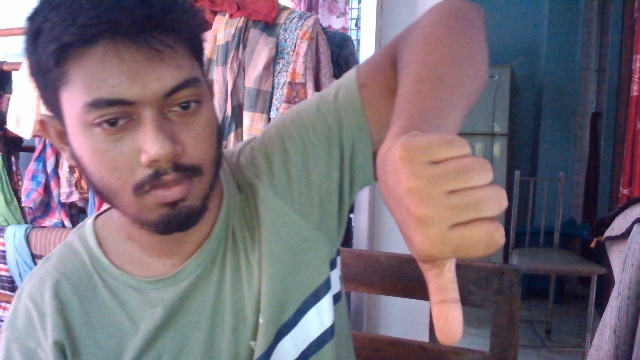no: (375, 124, 511, 346)
